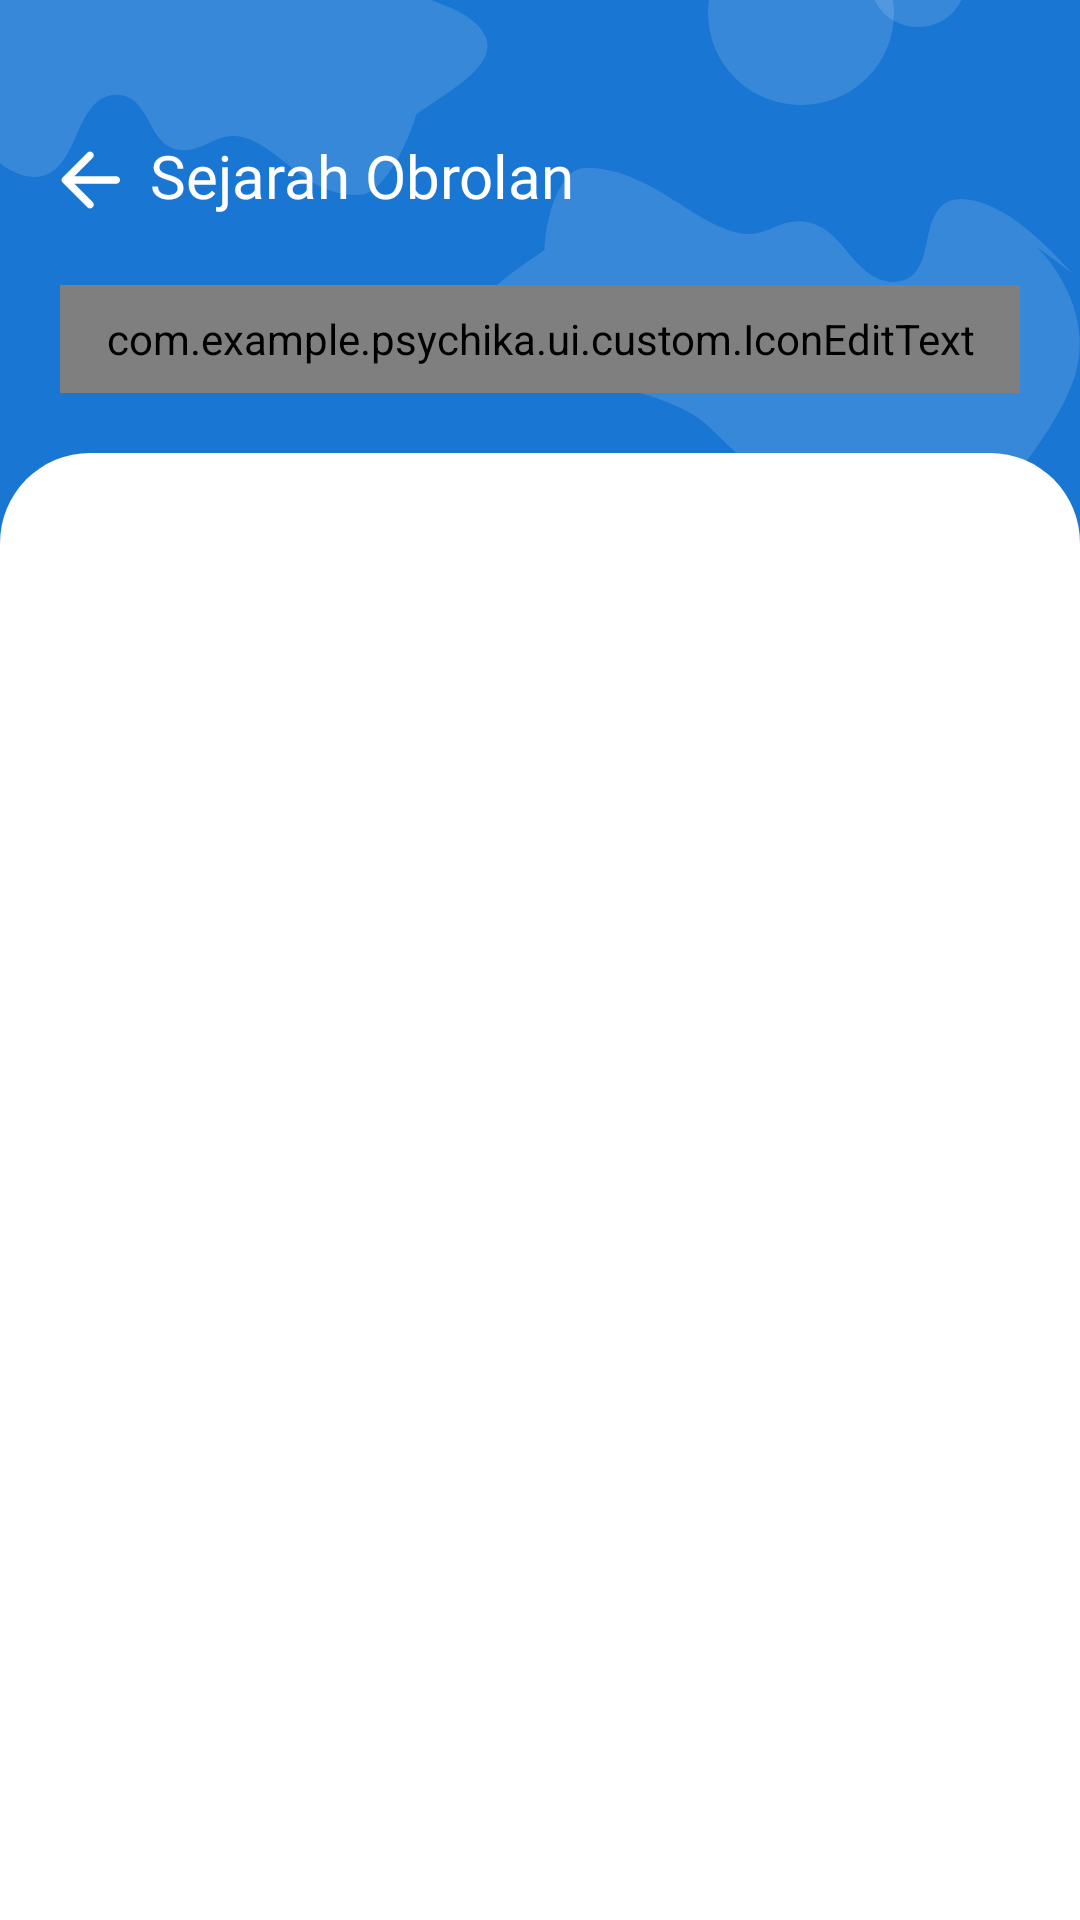

Where icons sit on this 1080px×1920px app screen, as (x1, y1, x2, y2):
Tombol kembali: (61, 151, 120, 209)
